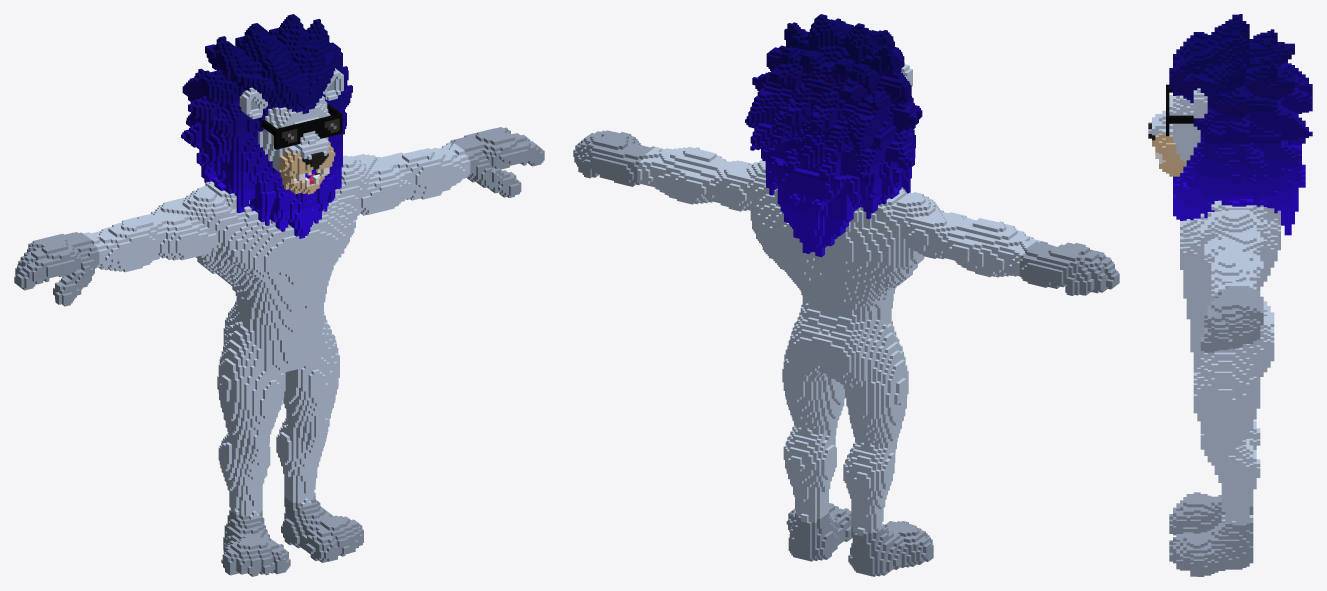
The model's file is 965-F9XwnxGZ.glb.
The picture shows the model from 3 angles, left to right: view 1: azimuth 30°, elevation 25°; view 2: azimuth 150°, elevation 25°; view 3: azimuth 270°, elevation 25°; orthographic projection. The views are drawn at different scales.
Visible parts, largest first — view 1: open; view 2: open; view 3: open.
Part boxes in pixels (left/top/right/bottom): open: left=14, top=14, right=544, bottom=576; open: left=573, top=14, right=1119, bottom=576; open: left=1148, top=14, right=1312, bottom=576.
Size of the model in its own units: 17.2 by 16.5 by 4.7.
4 materials, 4 textured.
